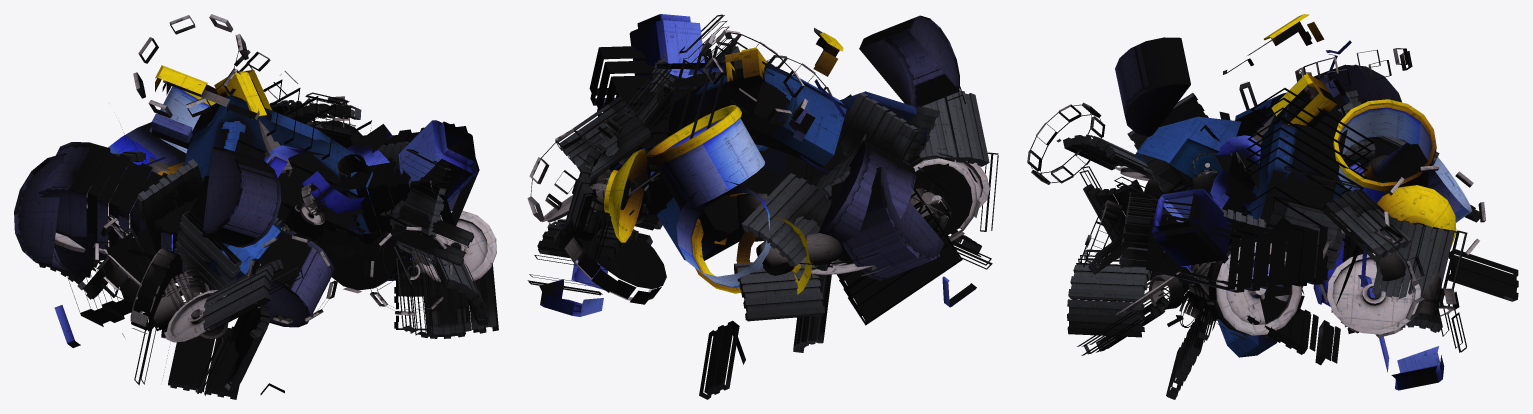
Rendered from PlayerB_die13.obj.
The picture shows the model from 3 angles, left to right: view 1: azimuth 30°, elevation 25°; view 2: azimuth 150°, elevation 25°; view 3: azimuth 270°, elevation 25°; orthographic projection. The views are drawn at different scales.
Visible parts, largest first — view 1: Object005; view 2: Object005; view 3: Object005.
Part boxes in pixels (<box>): Object005: <box>14,14,498,399</box>; Object005: <box>527,14,998,399</box>; Object005: <box>1027,14,1518,399</box>.
Size of the model in its own units: 194 by 140 by 210.
2 materials, 2 textured.
